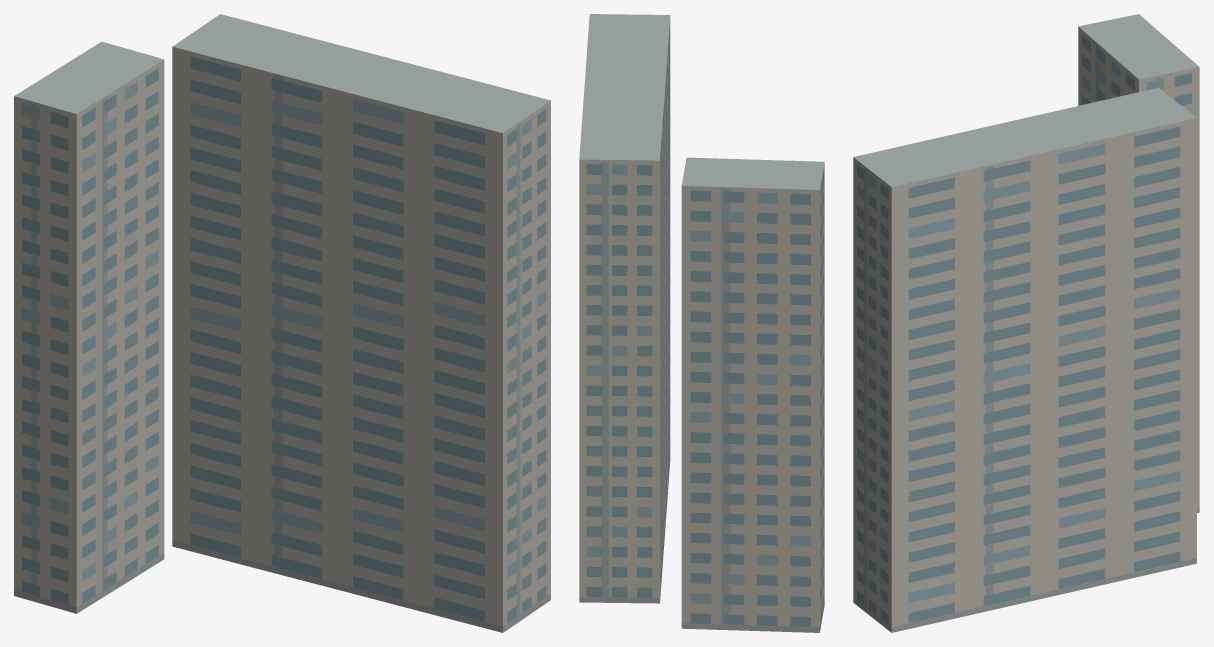
Rendered from residential-4949b143-4824-4d42-acc9-198a5b97c037.glb.
The picture shows the model from 3 angles, left to right: view 1: azimuth 30°, elevation 25°; view 2: azimuth 150°, elevation 25°; view 3: azimuth 270°, elevation 25°; orthographic projection. The views are drawn at different scales.
Visible parts, largest first — view 1: residential-4949b143-4824-4d42-acc9-198a5b97c037.tmp; view 2: residential-4949b143-4824-4d42-acc9-198a5b97c037.tmp; view 3: residential-4949b143-4824-4d42-acc9-198a5b97c037.tmp.
Boxes of the visible parts, x1,y1,x2,y2 form: residential-4949b143-4824-4d42-acc9-198a5b97c037.tmp: (14, 14, 550, 632); residential-4949b143-4824-4d42-acc9-198a5b97c037.tmp: (579, 14, 824, 632); residential-4949b143-4824-4d42-acc9-198a5b97c037.tmp: (853, 14, 1199, 632).
Size of the model in its own units: 52.55 by 63 by 44.38.
